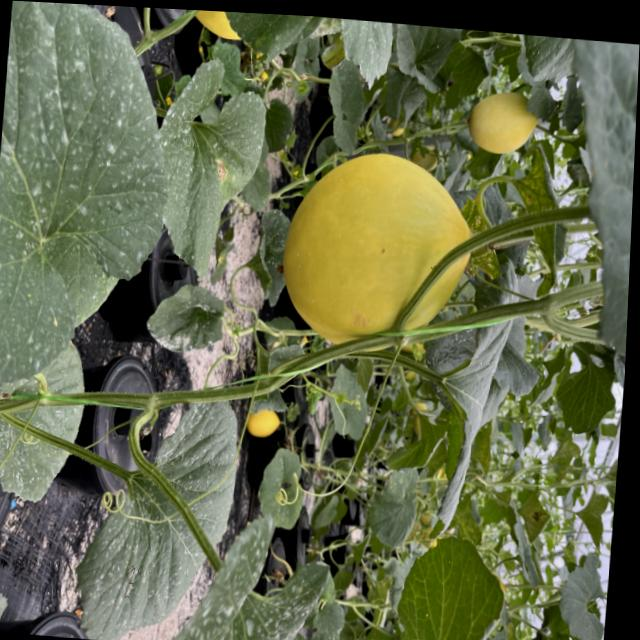SLCV: (451, 192, 508, 285)
downy mildew: (506, 142, 577, 296)
healthy: (542, 37, 640, 395), (425, 247, 522, 549), (388, 527, 510, 640), (553, 545, 611, 640), (253, 445, 309, 532)
powdery mildew: (0, 0, 188, 407), (70, 381, 245, 640), (141, 49, 270, 293), (129, 498, 337, 640), (0, 335, 91, 511), (197, 10, 344, 75), (141, 278, 228, 357), (245, 200, 294, 315), (329, 18, 396, 92)
